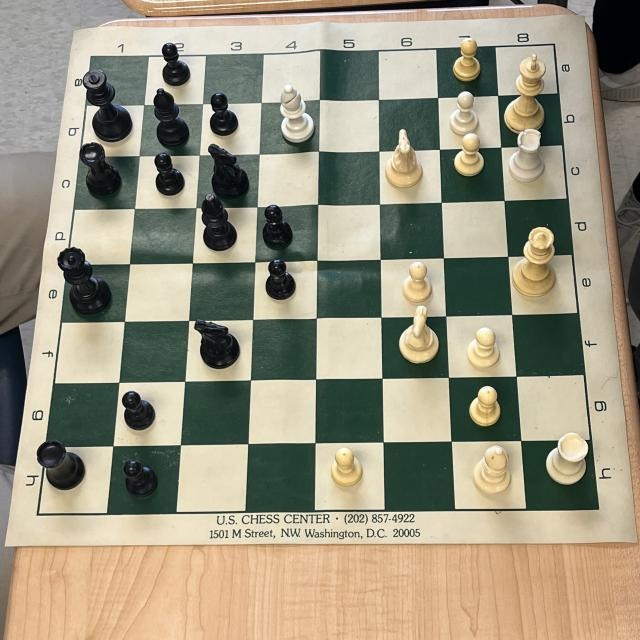black-bishop: (149, 86, 190, 151), (199, 193, 238, 250)
black-king: (81, 67, 135, 141)
black-knight: (206, 140, 250, 198), (193, 318, 240, 370)
black-pawn: (260, 203, 296, 250), (265, 256, 299, 300), (153, 151, 186, 195), (160, 42, 192, 86), (122, 456, 157, 495), (122, 391, 156, 429), (211, 91, 236, 137)
black-queen: (56, 245, 114, 317)
black-rook: (33, 437, 86, 492), (79, 141, 124, 195)
white-bishop: (472, 442, 512, 498), (279, 82, 314, 142)
white-king: (502, 54, 548, 132)
white-knight: (398, 304, 439, 364), (385, 126, 423, 188)
white-pawn: (328, 446, 364, 488), (467, 386, 504, 426), (466, 327, 500, 369), (448, 91, 482, 133), (453, 134, 485, 178), (452, 38, 483, 82), (402, 262, 434, 302)
white-queen: (512, 225, 559, 299)
white-rook: (545, 429, 587, 487), (507, 128, 549, 183)
